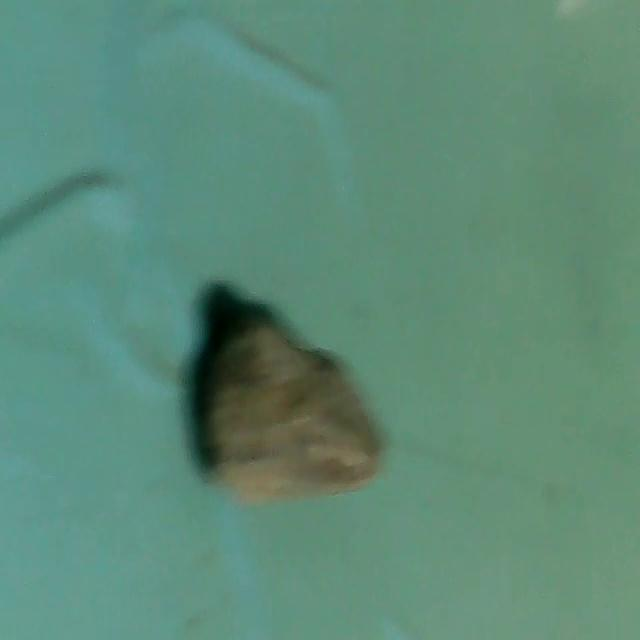rock: (195, 287, 398, 523)
